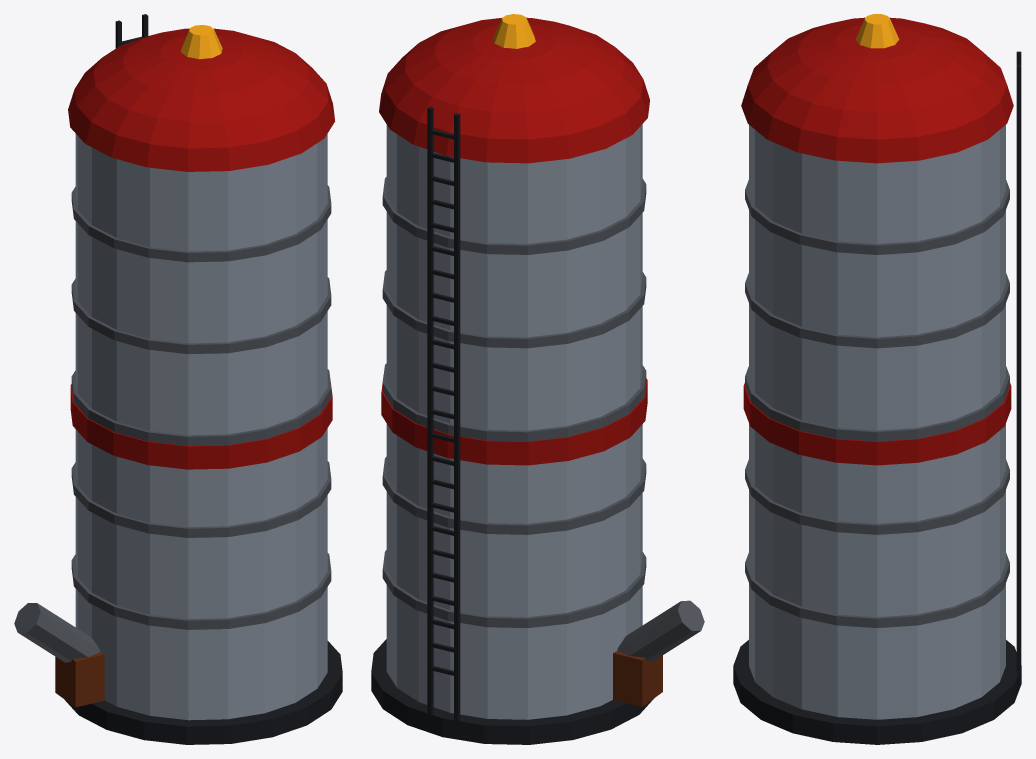
Rendered from Silo.obj.
3 renders of one model, left to right at view 1: azimuth 30°, elevation 25°; view 2: azimuth 150°, elevation 25°; view 3: azimuth 270°, elevation 25°, orthographic.
Parts seen in each view (by area): view 1: Silo; view 2: Silo; view 3: Silo.
Part boxes in pixels (bbox=[...]): Silo: bbox=[14, 14, 342, 744]; Silo: bbox=[371, 14, 704, 744]; Silo: bbox=[733, 14, 1021, 744].
Size of the model in its own units: 3.91 by 7.98 by 3.14.
